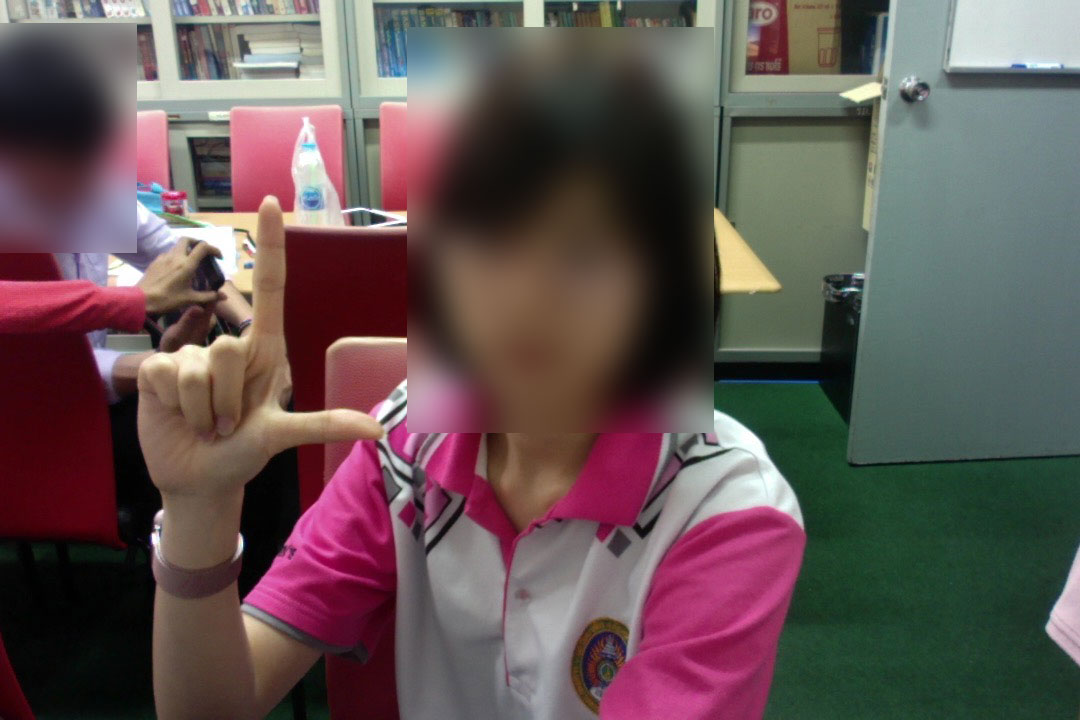lor: (132, 182, 392, 555)
